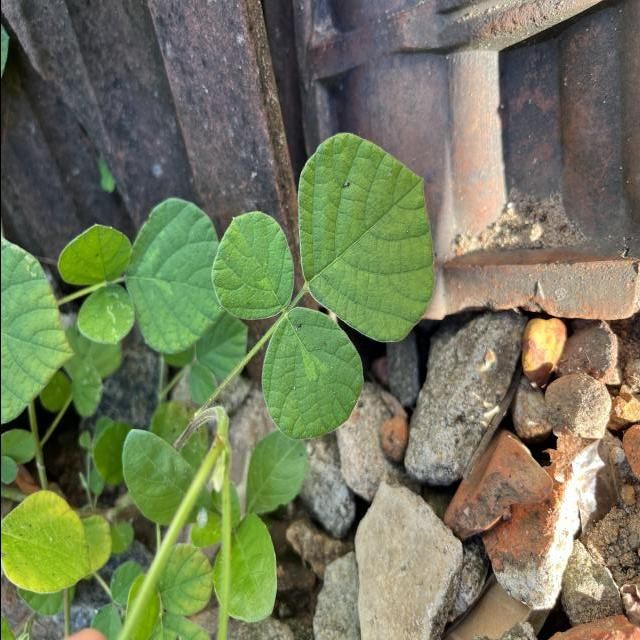Pseudarthria viscida: (210, 130, 435, 441)
